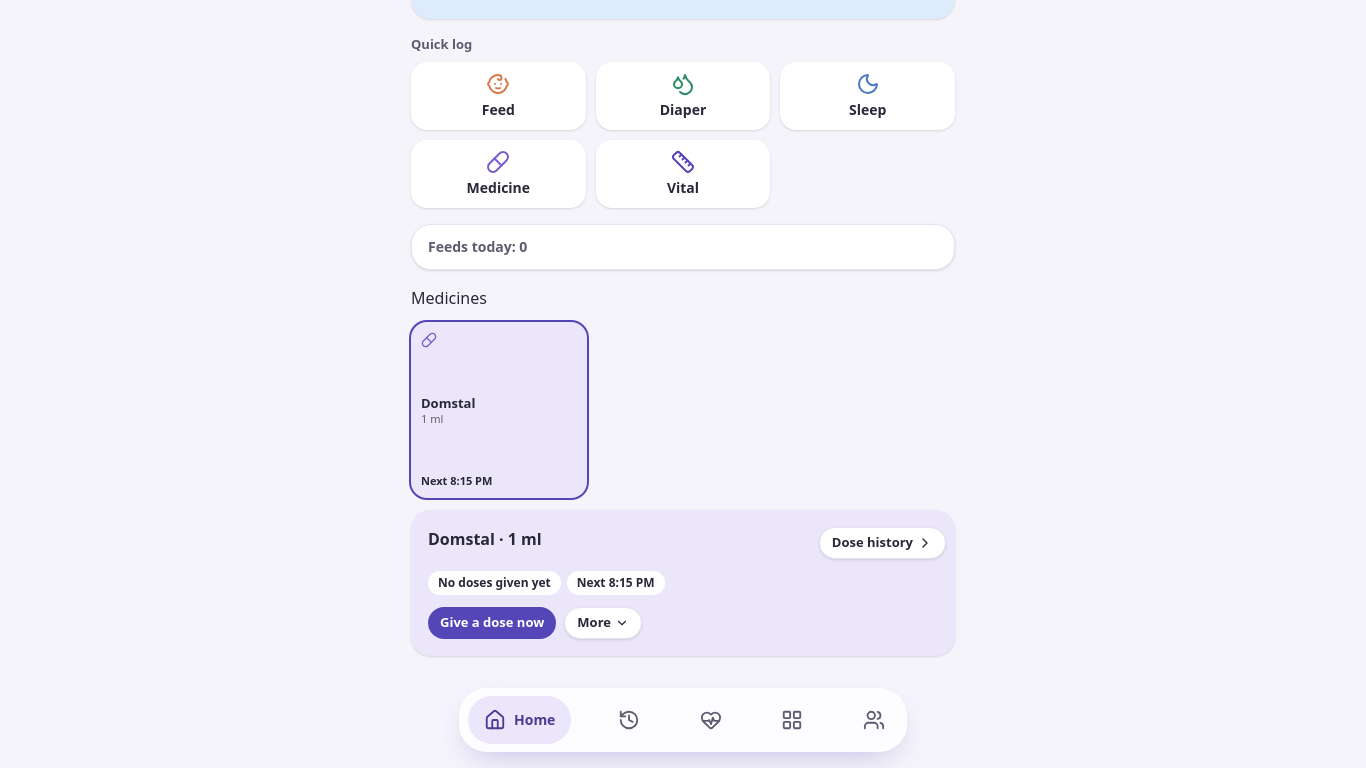
Dose history on the card opens that medicine history on the medicines page
(page scrolled)
Click the button "Dose history" at [882, 543], box x1=819 y1=527 x2=946 y2=559
(page scrolled)
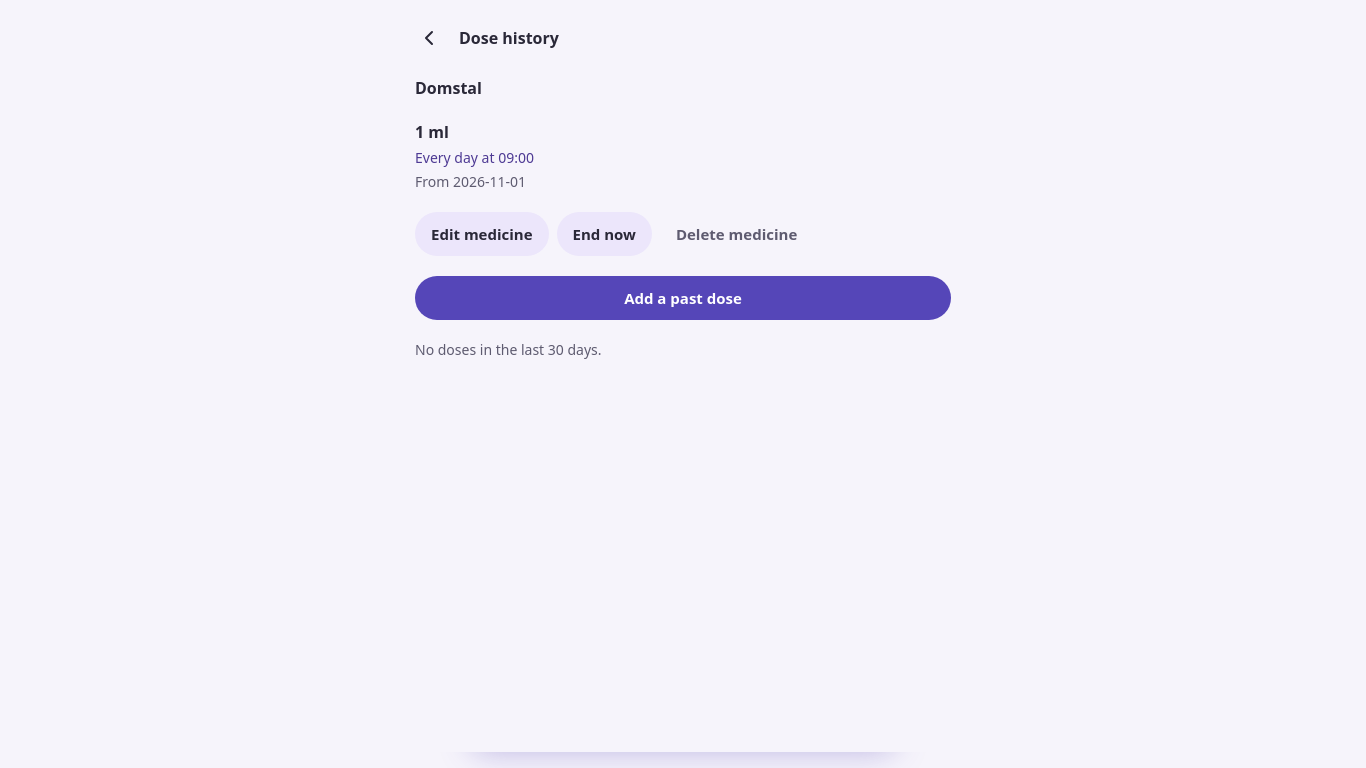
Expected: the text "Domstal" is shown, x1=415 y1=77 x2=482 y2=99
